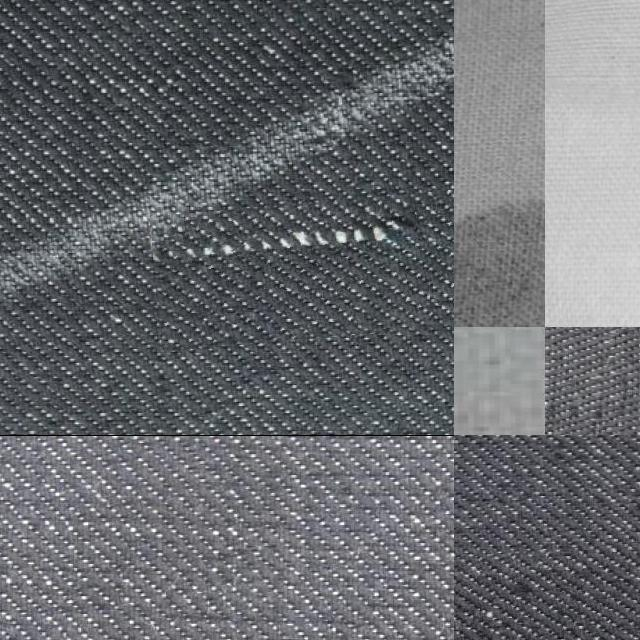Thread_other: (454, 174, 545, 326)
stains: (152, 195, 454, 344), (454, 538, 640, 640)
